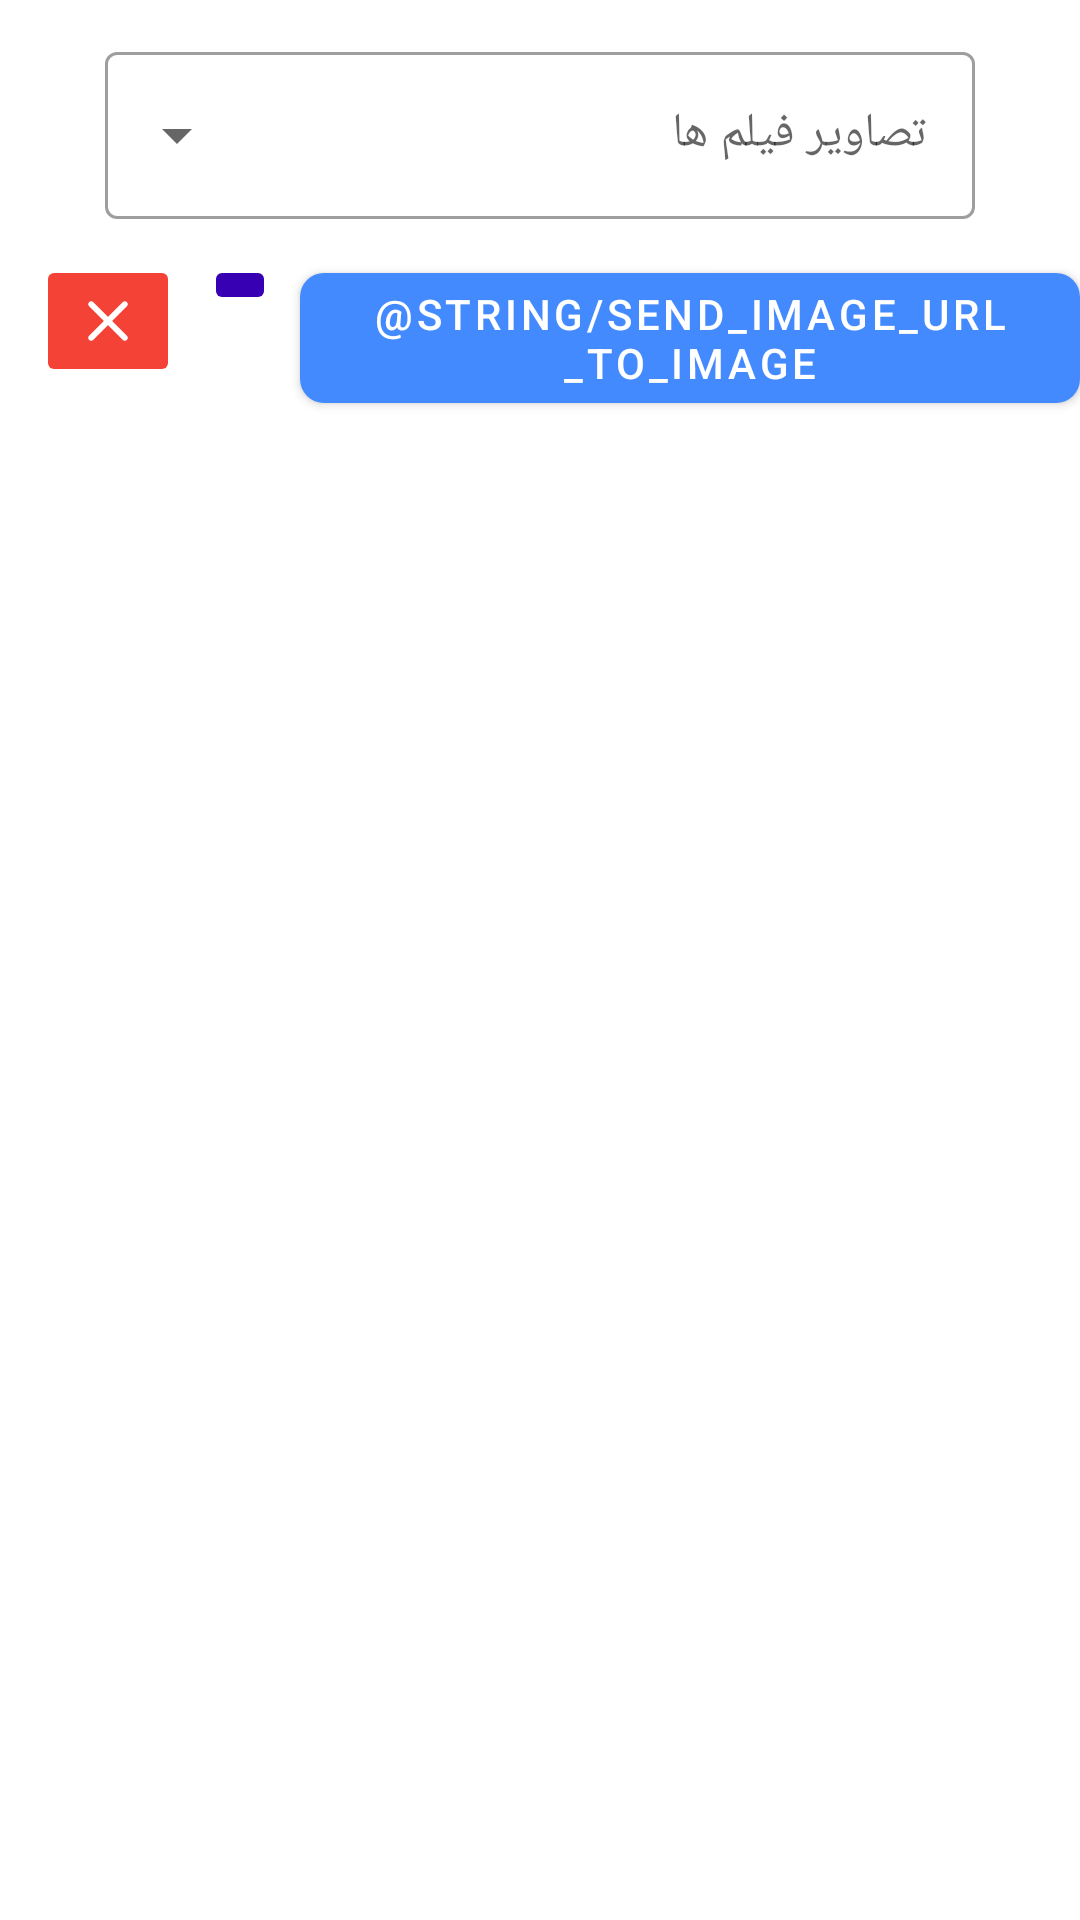

Named icons in this screenshot (1080 × 1920) and their bounding boxes, {"left": x1, "top": y1, "right": x2, "bottom": y2}:
close: {"left": 48, "top": 273, "right": 168, "bottom": 369}
